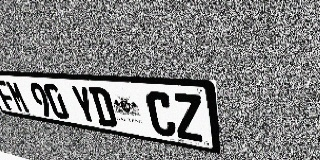0: (42, 83, 70, 120)
9: (27, 82, 55, 118)
C: (144, 91, 177, 138)
D: (88, 86, 118, 128)
F: (0, 79, 19, 112)
M: (4, 80, 31, 114)
Y: (69, 85, 99, 125)
Z: (171, 93, 205, 142)
